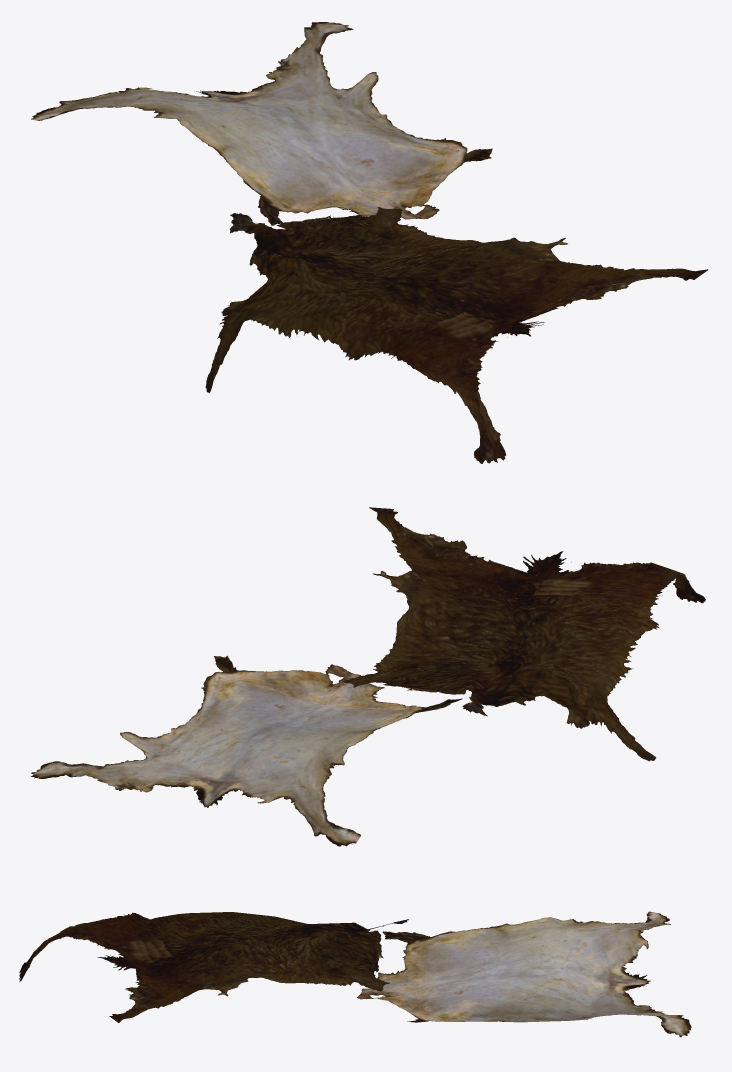
File: SM_Deriler.fbx
3 views of the same model, one above another, from view 1: azimuth 30°, elevation 25°; view 2: azimuth 150°, elevation 25°; view 3: azimuth 270°, elevation 25° (orthographic). The views are drawn at different scales.
Parts seen in each view (by area): view 1: OBJ_Deriler; view 2: OBJ_Deriler; view 3: OBJ_Deriler.
Part boxes in pixels (left/top/right/bottom): OBJ_Deriler: left=31, top=22, right=708, bottom=463; OBJ_Deriler: left=31, top=507, right=705, bottom=846; OBJ_Deriler: left=19, top=911, right=691, bottom=1037.
Bounding box in the file's own units: 152 × 50 × 255.
